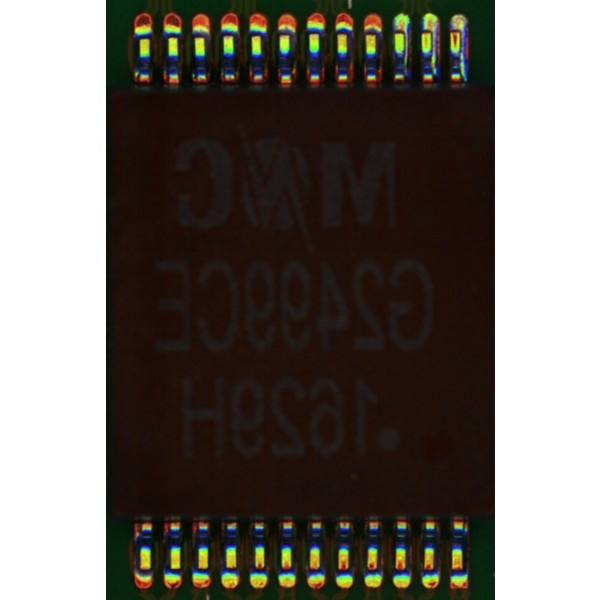Bad_podu: (395, 24, 404, 38), (422, 25, 432, 37), (452, 26, 461, 37)
Bad_qiaojiao: (461, 32, 467, 82), (432, 33, 437, 75), (404, 33, 409, 74)
